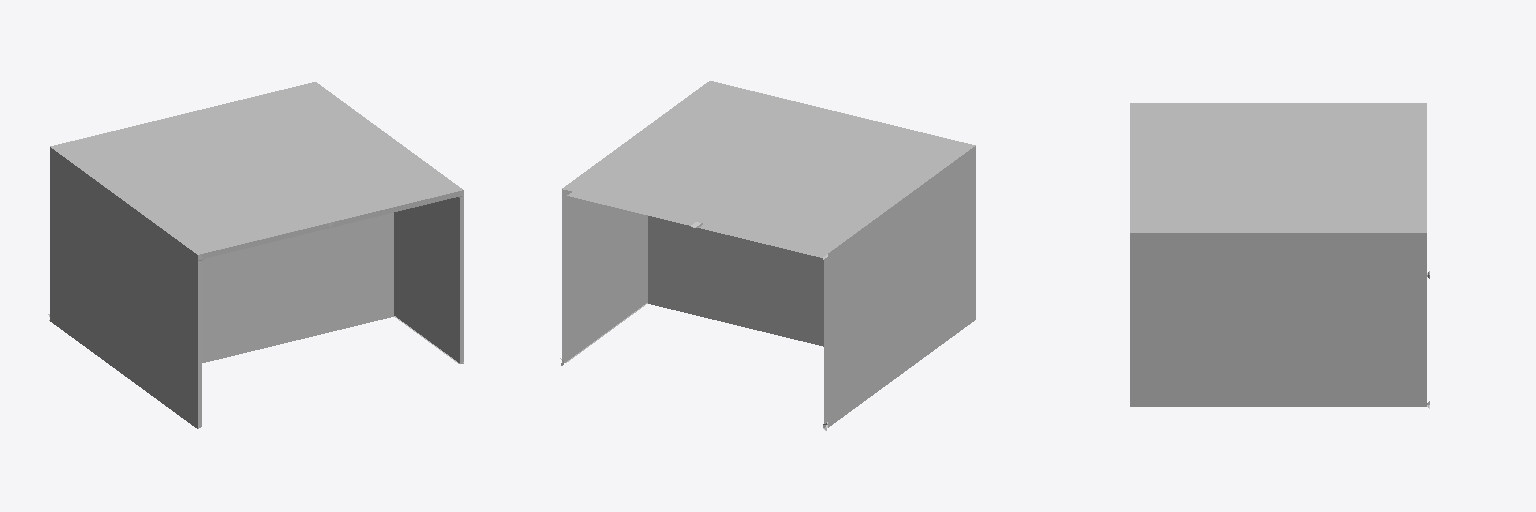
The model's file is SmallCubicle.obj.
3 views of the same model, side by side, from view 1: azimuth 30°, elevation 25°; view 2: azimuth 150°, elevation 25°; view 3: azimuth 270°, elevation 25° (orthographic).
Visible parts, largest first — view 1: scube_Cylinder.001; view 2: scube_Cylinder.001; view 3: scube_Cylinder.001.
Part boxes in pixels (left/top/right/bottom): scube_Cylinder.001: left=48, top=82, right=463, bottom=428; scube_Cylinder.001: left=560, top=81, right=975, bottom=430; scube_Cylinder.001: left=1130, top=103, right=1429, bottom=408.
Size of the model in its own units: 1.35 by 0.855 by 1.32.